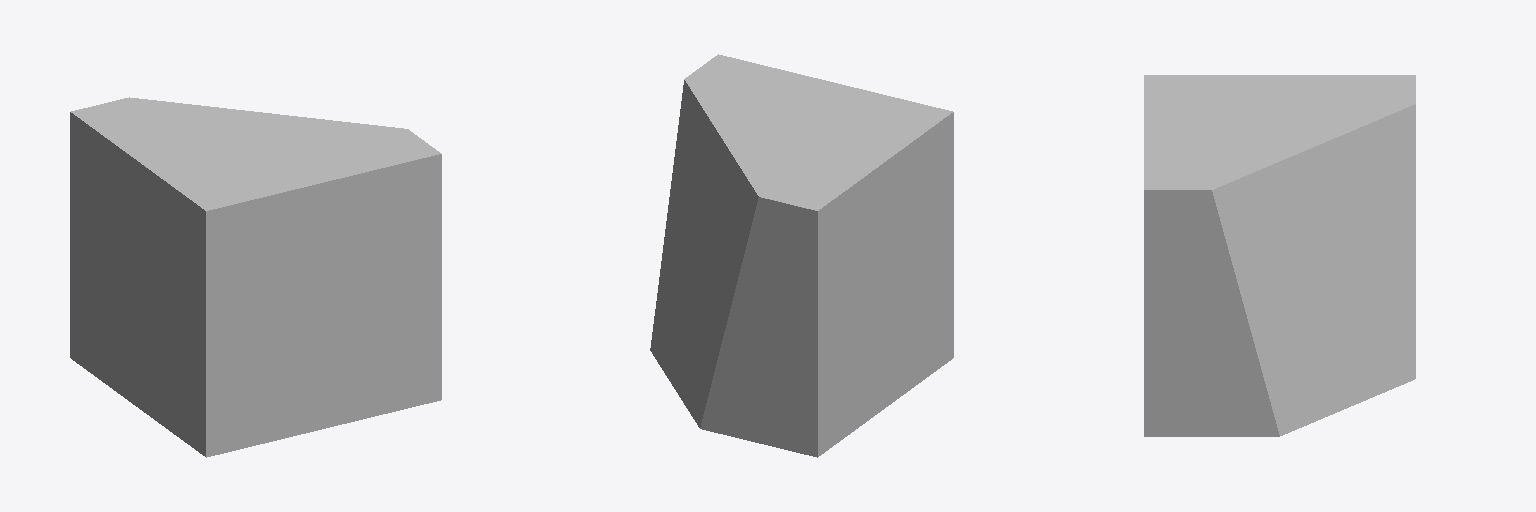
File: bevelled_corner_c3.obj
The picture shows the model from 3 angles: view 1: azimuth 30°, elevation 25°; view 2: azimuth 150°, elevation 25°; view 3: azimuth 270°, elevation 25°; orthographic projection.
Parts seen in each view (by area): view 1: bevelledcornerc3_face0-texture:1_Bevelled_Corner_C3; view 2: bevelledcornerc3_face0-texture:1_Bevelled_Corner_C3, bevelledcornerc3_face1-texture:2_Bevelled_Corner_C3.001; view 3: bevelledcornerc3_face0-texture:1_Bevelled_Corner_C3, bevelledcornerc3_face1-texture:2_Bevelled_Corner_C3.001.
Part boxes in pixels (x1,y1,x2,y2): bevelledcornerc3_face0-texture:1_Bevelled_Corner_C3: (70,97,441,457); bevelledcornerc3_face0-texture:1_Bevelled_Corner_C3: (684,54,953,457); bevelledcornerc3_face1-texture:2_Bevelled_Corner_C3.001: (650,80,758,427); bevelledcornerc3_face0-texture:1_Bevelled_Corner_C3: (1144,75,1415,436); bevelledcornerc3_face1-texture:2_Bevelled_Corner_C3.001: (1212,104,1415,435).
Size of the model in its own units: 1 by 1 by 1.